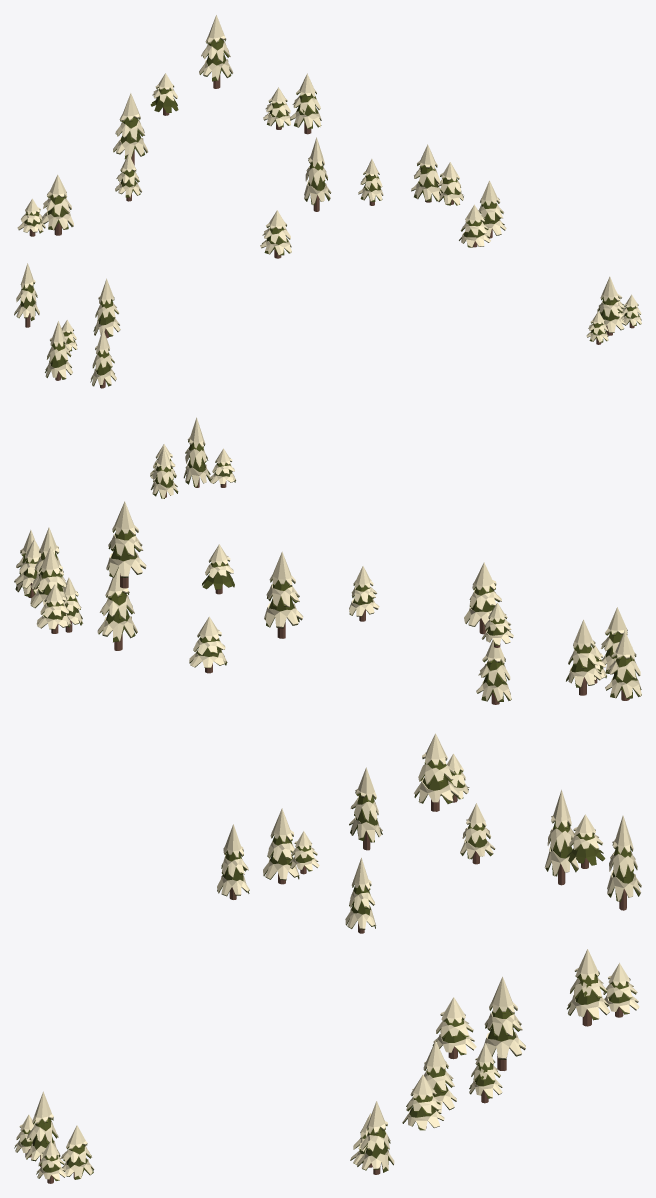
File: Trees.gltf
3 renders of one model, top to bottom at view 1: azimuth 30°, elevation 25°; view 2: azimuth 150°, elevation 25°; view 3: azimuth 270°, elevation 25°, orthographic. The views are drawn at different scales.
Parts seen in each view (by area): view 1: Cone.024; view 2: Cone.024; view 3: Cone.024.
Part boxes in pixels (box(x1,y1,x2,y2)): Cone.024: box(14, 15, 641, 388); Cone.024: box(14, 417, 641, 704); Cone.024: box(14, 733, 641, 1183).
Size of the model in its own units: 65.72 by 24.61 by 55.47.
Materials: 1 (1 with a texture image).
